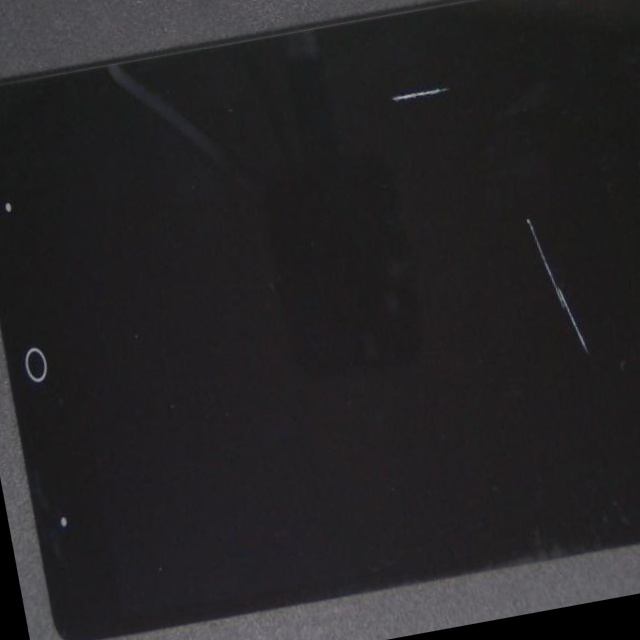scratch: (300, 192, 640, 549), (228, 0, 640, 183)
